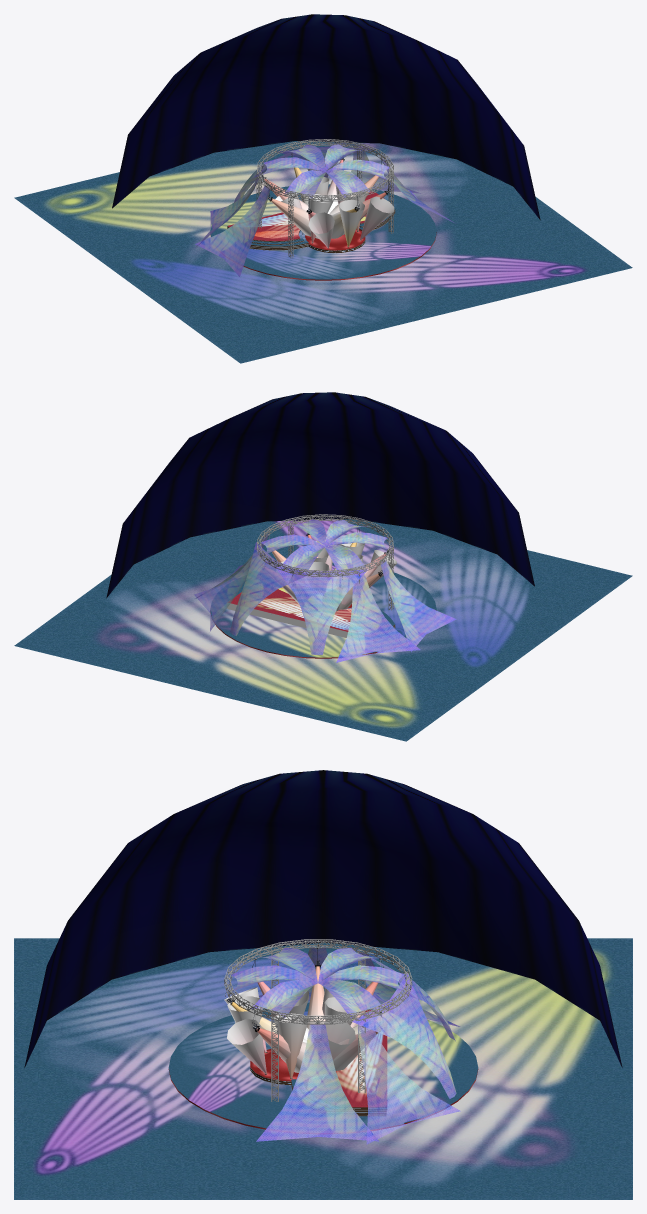
Rendered from Stage.fbx.
The picture shows the model from 3 angles, top to bottom: view 1: azimuth 30°, elevation 25°; view 2: azimuth 150°, elevation 25°; view 3: azimuth 270°, elevation 25°; orthographic projection. The views are drawn at different scales.
Parts seen in each view (by area): view 1: Plane05, Sphere01, Cylinder05, Box14, Plane07, Line03, Cylinder40, Plane02, Cylinder39, Plane13, Plane09, Cylinder43 (+5 smaller); view 2: Plane05, Sphere01, Cylinder05, Plane03, Plane02, Box14, Plane04, Plane07, Line03, Plane01, Plane11, Plane08 (+2 smaller); view 3: Plane05, Sphere01, Cylinder05, Plane06, Plane01, Box14, Plane04, Line03, Cylinder40, Plane10, Plane12, Plane08 (+10 smaller).
Boxes of the visible parts, x1=… form: Plane05: x1=14, y1=141, x2=632, y2=363; Sphere01: x1=112, y1=14, x2=540, y2=220; Cylinder05: x1=210, y1=184, x2=436, y2=280; Box14: x1=256, y1=139, x2=393, y2=258; Plane07: x1=195, y1=185, x2=270, y2=276; Line03: x1=227, y1=191, x2=384, y2=242; Cylinder40: x1=360, y1=196, x2=394, y2=239; Plane02: x1=195, y1=172, x2=260, y2=247; Cylinder39: x1=339, y1=199, x2=364, y2=246; Plane13: x1=285, y1=170, x2=325, y2=197; Plane09: x1=325, y1=169, x2=369, y2=197; Cylinder43: x1=308, y1=212, x2=334, y2=247; Plane05: x1=14, y1=519, x2=632, y2=741; Sphere01: x1=106, y1=392, x2=534, y2=598; Cylinder05: x1=210, y1=562, x2=436, y2=658; Plane03: x1=276, y1=566, x2=367, y2=654; Plane02: x1=336, y1=573, x2=420, y2=662; Box14: x1=256, y1=514, x2=393, y2=610; Plane04: x1=230, y1=542, x2=307, y2=635; Plane07: x1=381, y1=560, x2=456, y2=651; Line03: x1=227, y1=587, x2=351, y2=632; Plane01: x1=194, y1=557, x2=252, y2=631; Plane11: x1=325, y1=545, x2=365, y2=573; Plane08: x1=280, y1=544, x2=324, y2=572; Plane05: x1=14, y1=938, x2=632, y2=1199; Sphere01: x1=24, y1=770, x2=622, y2=1067; Cylinder05: x1=168, y1=1002, x2=478, y2=1130; Plane06: x1=256, y1=1024, x2=378, y2=1141; Plane01: x1=357, y1=1017, x2=460, y2=1144; Box14: x1=224, y1=939, x2=412, y2=1101; Plane04: x1=352, y1=973, x2=456, y2=1098; Line03: x1=335, y1=1010, x2=387, y2=1108; Cylinder40: x1=227, y1=1019, x2=266, y2=1073; Plane10: x1=252, y1=979, x2=317, y2=1018; Plane12: x1=318, y1=979, x2=384, y2=1018; Plane08: x1=319, y1=965, x2=404, y2=991.
Size of the model in its own units: 4254 by 2079 by 4254.
Materials: 17 (17 with a texture image).
